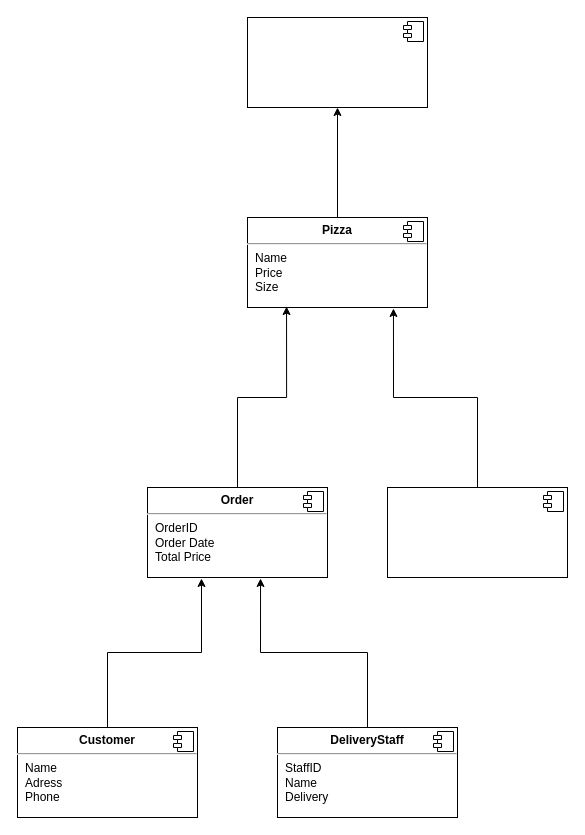
Image size: 585x835. Some labels were removed from this diagram. Each missing label, with the box of its shape:
Menu MenuID List of Available Pizzas: (246, 16, 428, 108)
Topping Name Price: (386, 486, 568, 578)
